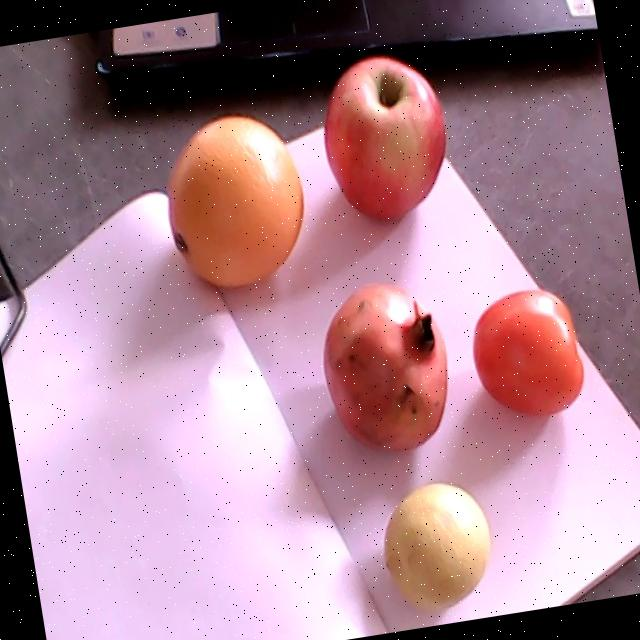apple: (325, 58, 445, 224)
lemon: (384, 484, 491, 608)
orange: (169, 117, 304, 288)
pomegranate: (323, 283, 447, 453)
tomato: (473, 292, 583, 418)
